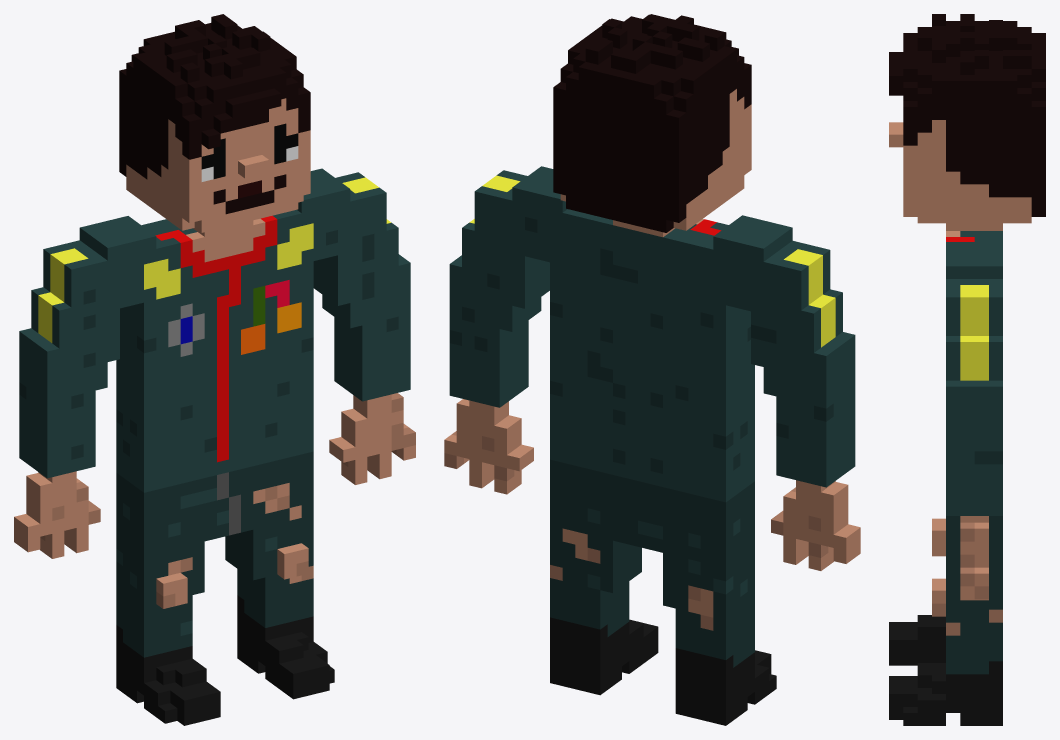
The model's file is 5 Lieuntenant.obj.
The picture shows the model from 3 angles, left to right: view 1: azimuth 30°, elevation 25°; view 2: azimuth 150°, elevation 25°; view 3: azimuth 270°, elevation 25°; orthographic projection. The views are drawn at different scales.
Size of the model in its own units: 3.2 by 5 by 1.1.
Materials: 1 (1 with a texture image).
